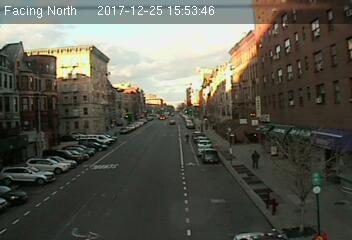car: (201, 149, 218, 161)
pedestrian: (248, 148, 262, 170)
